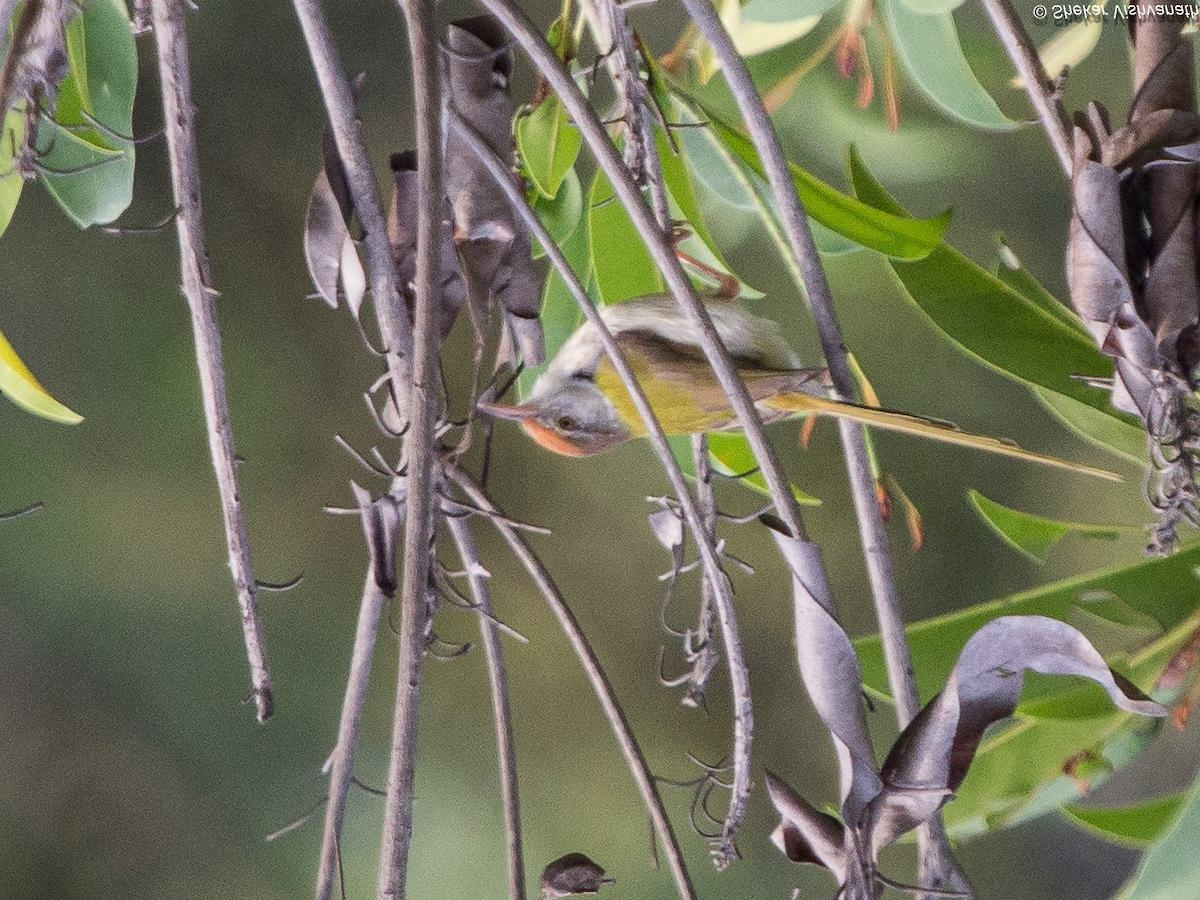tailorbird: (461, 275, 1105, 478)
